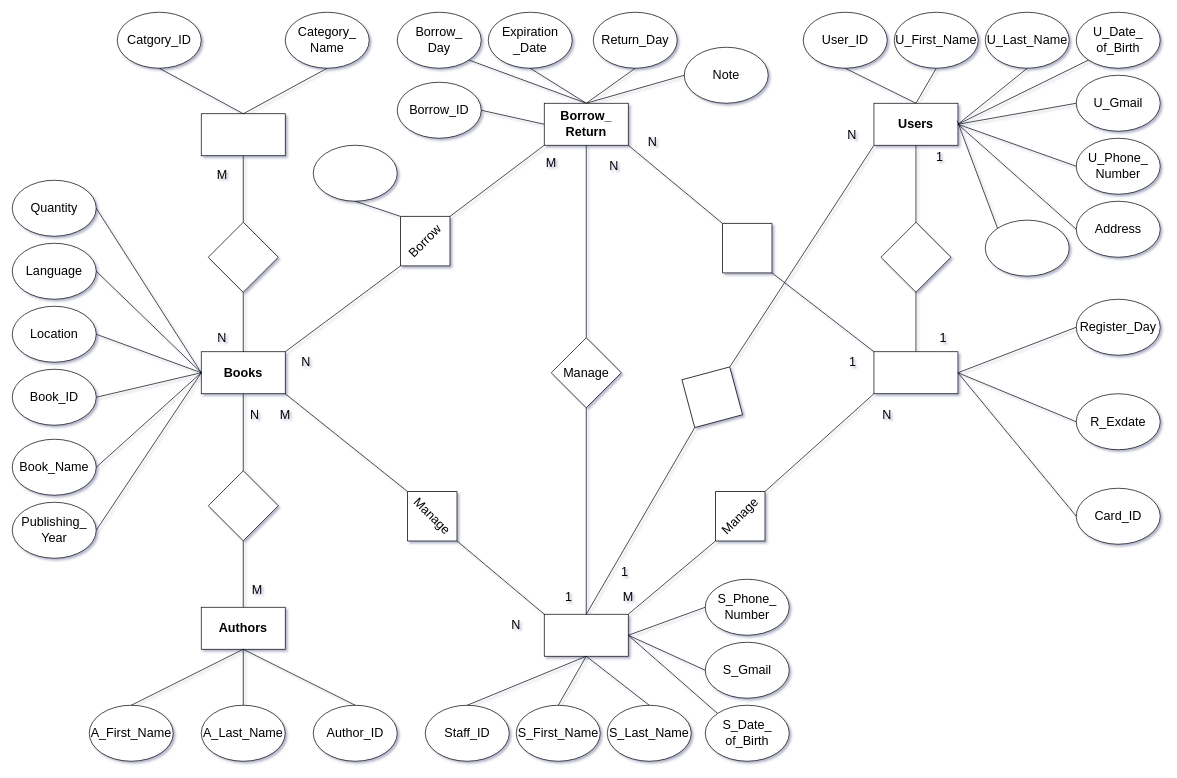
Image size: 1177x778. Some labels were removed from this diagram. Here are the shapes that lost their labels. From the top down, the box of each, then its label:
(201, 113, 285, 156): Categories
(313, 145, 397, 201): Borrow_ Quantity
(208, 222, 278, 292): Classify
(697, 198, 797, 298): Can
(880, 222, 951, 292): Have
(985, 219, 1069, 276): CCCD
(873, 351, 958, 394): Cards
(664, 349, 760, 445): Register
(208, 470, 278, 541): Compose
(544, 614, 628, 656): Staffs
